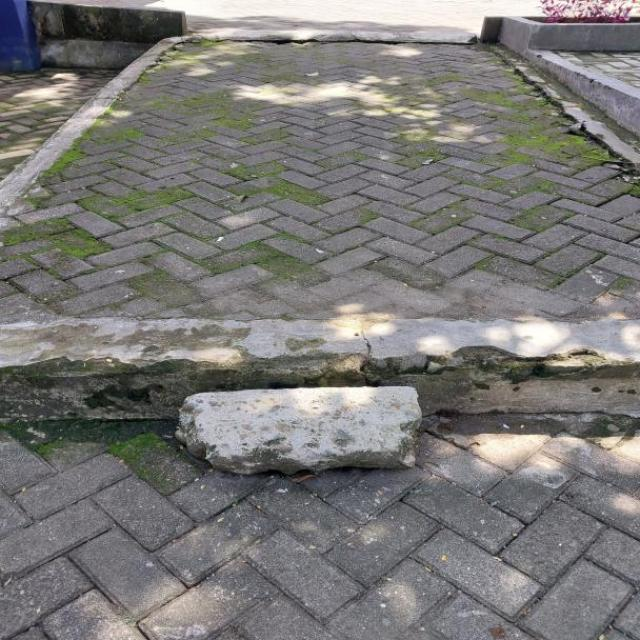stones ahead at: (148, 388, 446, 477)
